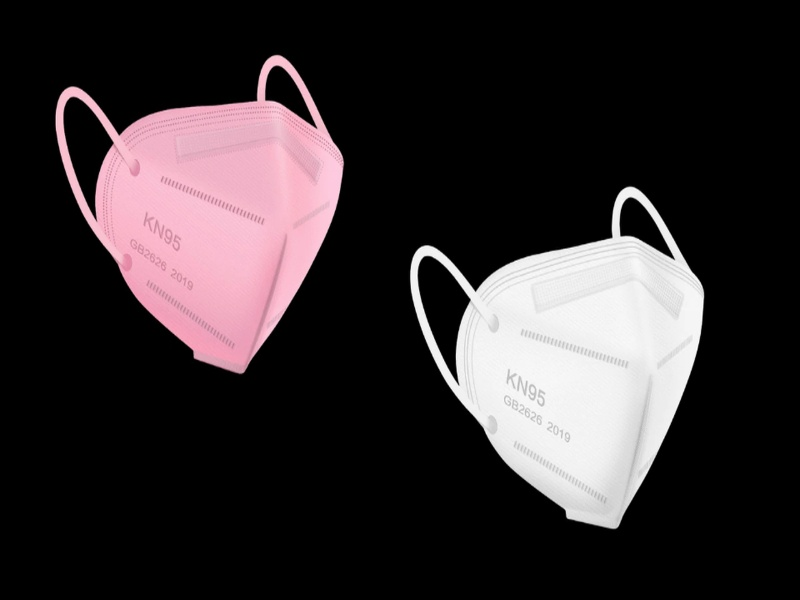mask: (452, 236, 705, 530), (91, 96, 347, 376)
